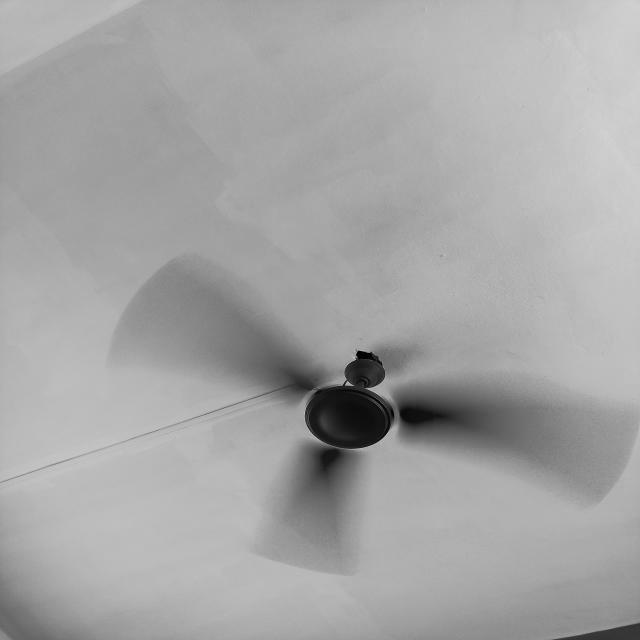fan: (105, 228, 633, 579)
